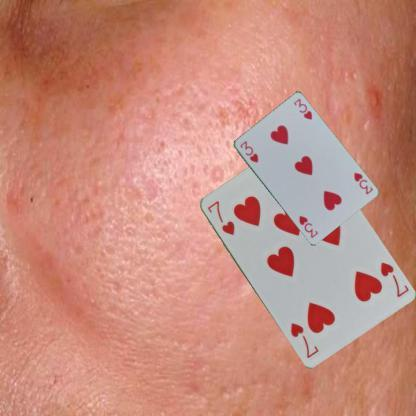3h: (236, 138, 260, 164), (351, 170, 374, 196)
7h: (377, 259, 410, 299), (204, 198, 236, 236)
